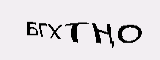Е: (79, 24, 92, 49)
Ж: (108, 21, 133, 44)
О: (91, 23, 106, 44)
Ш: (58, 24, 80, 45)
Щ: (27, 21, 56, 49)
